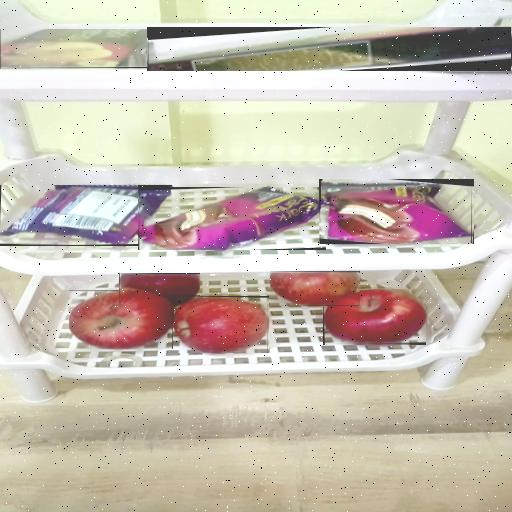Apple: (69, 290, 173, 349), (324, 289, 426, 344), (174, 296, 268, 353), (271, 271, 359, 306), (119, 274, 200, 305)
Choco Fills: (149, 27, 510, 71), (0, 29, 156, 68)
Choco Pie: (140, 187, 326, 250), (0, 185, 172, 244), (321, 182, 471, 243)
